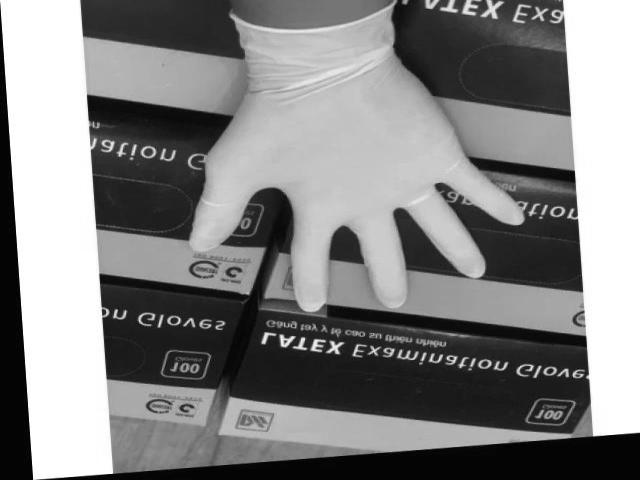gloved: (188, 77, 523, 316)
